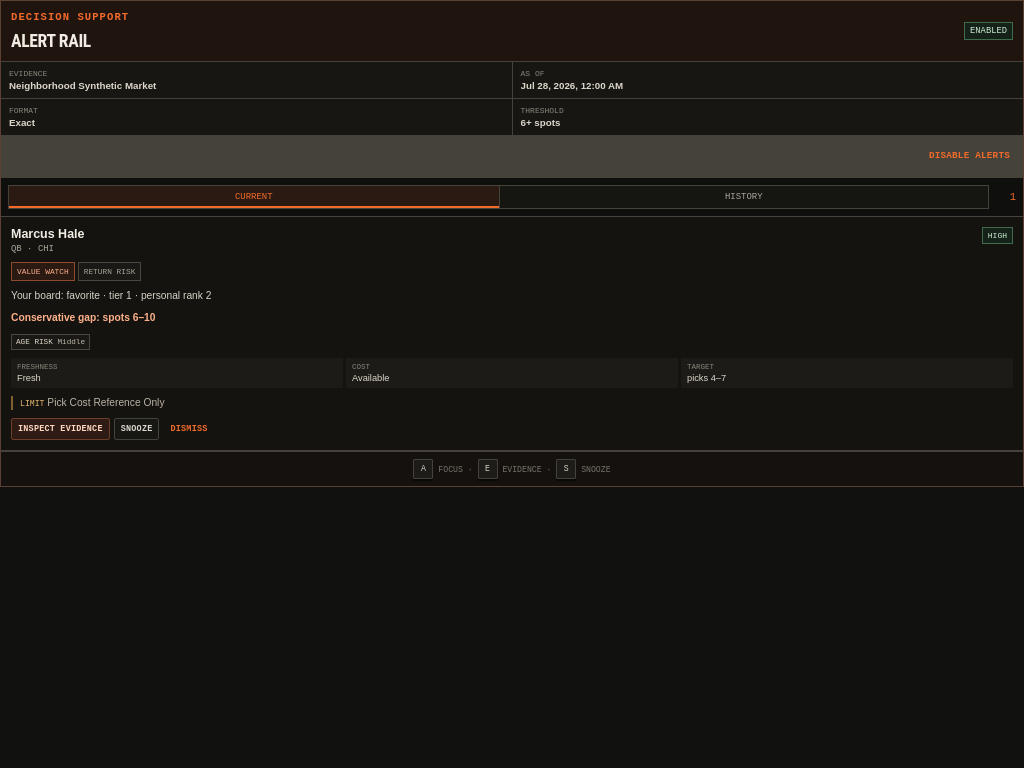
Test: DraftAlertRail › evaluates grouped alerts and opens a privacy-safe evidence drawer
Check: the text "Marcus Hale" is shown, box x1=11 y1=227 x2=84 y2=241
Check: the button "Value watch" is shown, box x1=11 y1=262 x2=75 y2=281
Click the button "Inspect evidence". click: (60, 429)
box: x1=11 y1=418 x2=110 y2=440
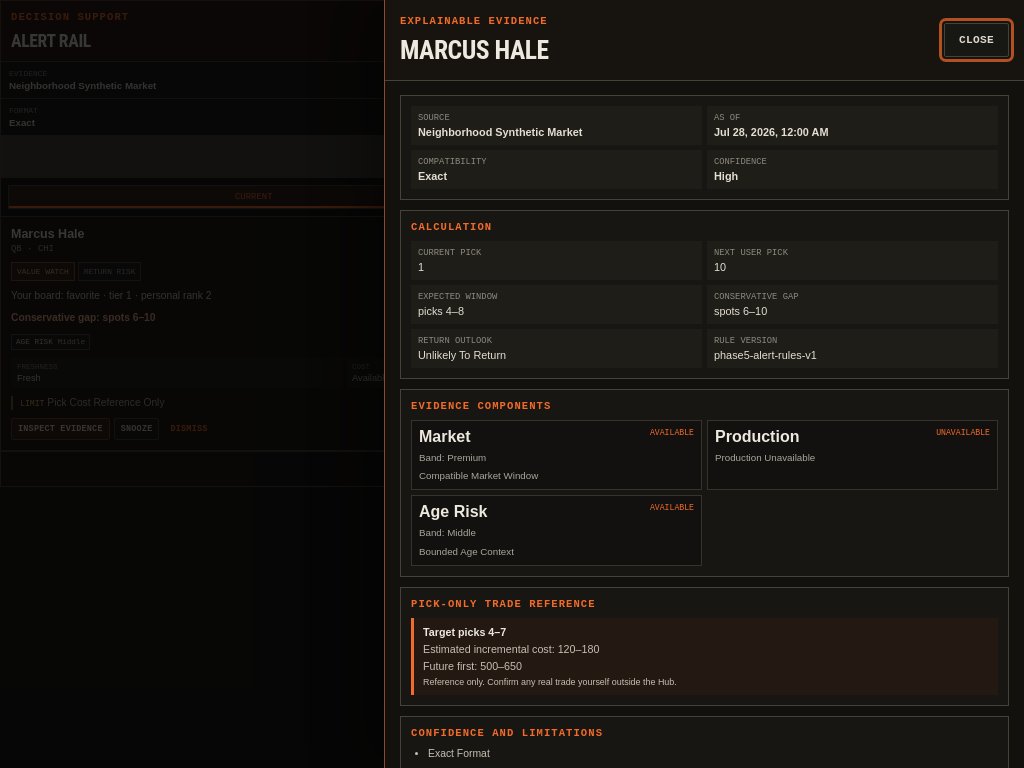
Check: the dialog "Marcus Hale" shows "Neighborhood Synthetic Market", box x1=418 y1=126 x2=582 y2=138
Check: the dialog "Marcus Hale" shows "Production", box x1=715 y1=428 x2=799 y2=445
Check: the dialog "Marcus Hale" shows "Unavailable", box x1=936 y1=428 x2=990 y2=437
